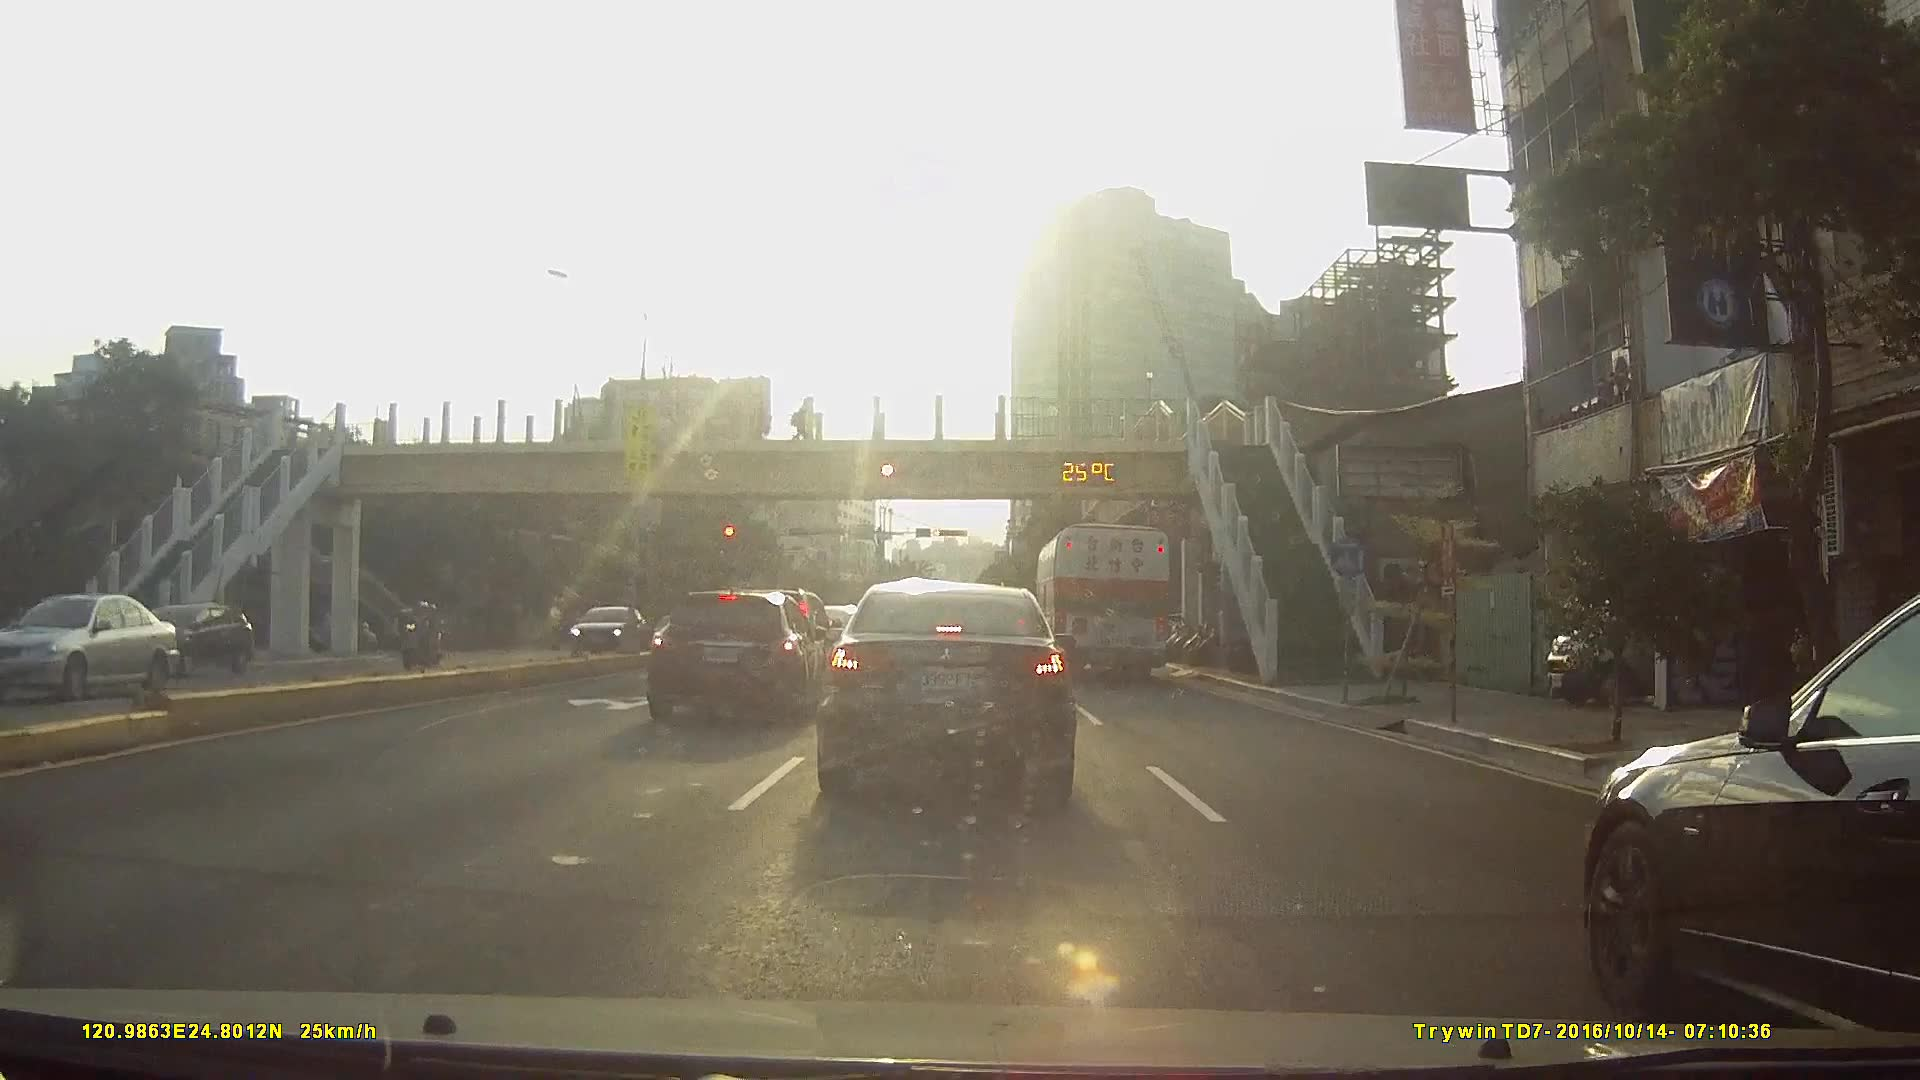pedestrian: (791, 397, 811, 444)
rider: (401, 596, 448, 671)
vehicle: (1567, 578, 1920, 1047), (813, 579, 1078, 802), (639, 585, 829, 726), (1036, 520, 1174, 682), (0, 591, 162, 702), (17, 597, 152, 684), (133, 601, 252, 676), (560, 605, 647, 658)
